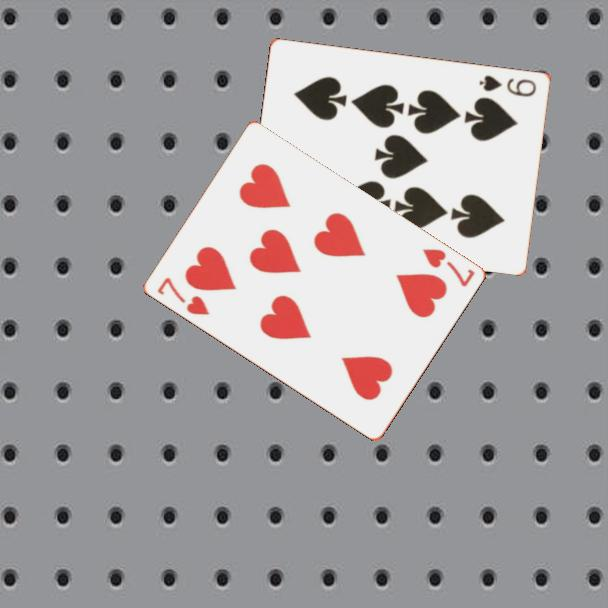h07: (418, 245, 477, 290), (153, 274, 212, 318)
s09: (476, 71, 539, 99)
